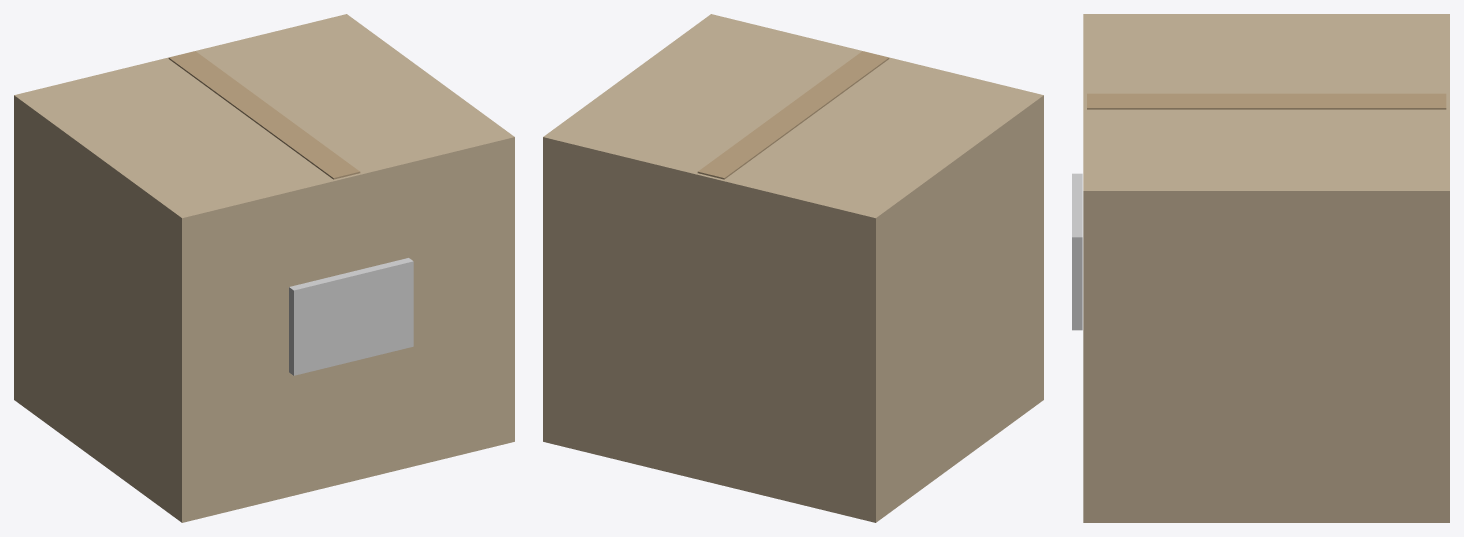
Rendered from carton_box.glb.
The picture shows the model from 3 angles, left to right: view 1: azimuth 30°, elevation 25°; view 2: azimuth 150°, elevation 25°; view 3: azimuth 270°, elevation 25°; orthographic projection. The views are drawn at different scales.
Visible parts, largest first — view 1: carton_box_000_Carton, carton_box_002_Carton_label, carton_box_001_Carton_tape; view 2: carton_box_000_Carton, carton_box_001_Carton_tape; view 3: carton_box_000_Carton, carton_box_001_Carton_tape, carton_box_002_Carton_label.
Boxes of the visible parts, bbox=[...] form: carton_box_000_Carton: bbox=[14, 14, 514, 522]; carton_box_002_Carton_label: bbox=[289, 258, 413, 375]; carton_box_001_Carton_tape: bbox=[168, 51, 360, 179]; carton_box_000_Carton: bbox=[543, 14, 1043, 522]; carton_box_001_Carton_tape: bbox=[697, 51, 889, 179]; carton_box_000_Carton: bbox=[1083, 14, 1449, 522]; carton_box_001_Carton_tape: bbox=[1087, 93, 1446, 109]; carton_box_002_Carton_label: bbox=[1072, 173, 1082, 330].
Bounding box in the file's own units: 0.48 × 0.4242 × 0.433.
